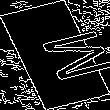M_W: (11, 25, 99, 85)
